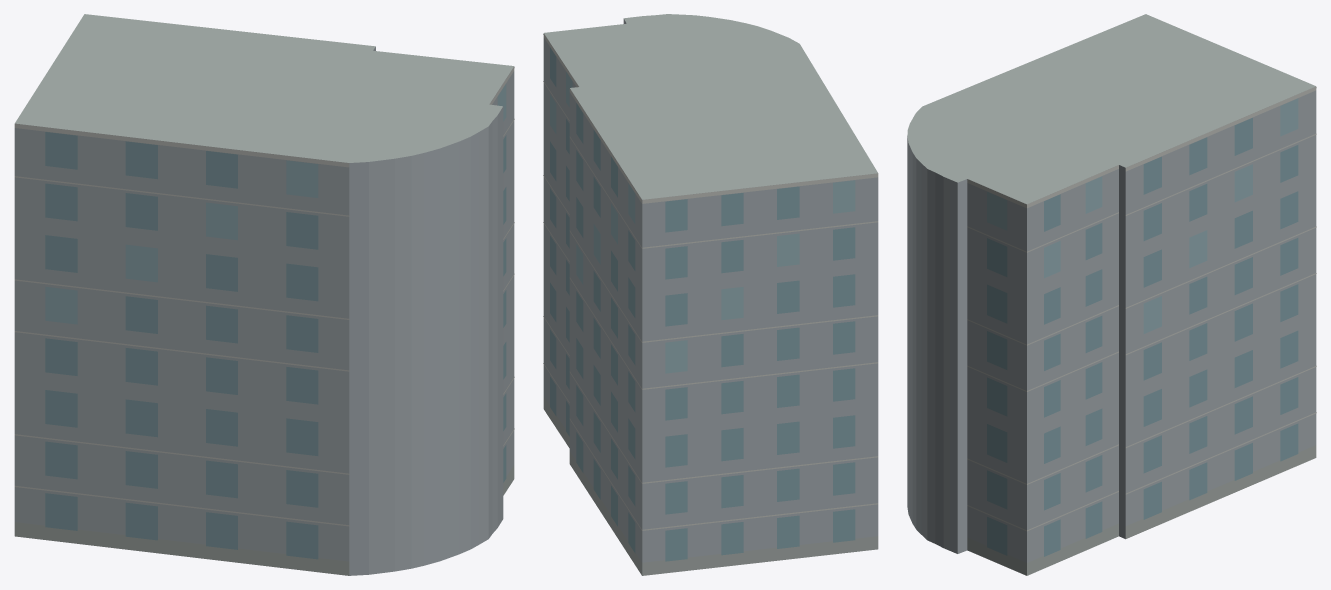
The model's file is survey-upis-33041325.glb.
3 views of the same model, side by side, from view 1: azimuth 30°, elevation 25°; view 2: azimuth 150°, elevation 25°; view 3: azimuth 270°, elevation 25° (orthographic). The views are drawn at different scales.
Visible parts, largest first — view 1: survey-upis-33041325.tmp; view 2: survey-upis-33041325.tmp; view 3: survey-upis-33041325.tmp.
Boxes of the visible parts, bbox=[...] form: survey-upis-33041325.tmp: bbox=[14, 14, 514, 575]; survey-upis-33041325.tmp: bbox=[543, 14, 878, 575]; survey-upis-33041325.tmp: bbox=[907, 14, 1316, 575].
Size of the model in its own units: 24.86 by 22.6 by 22.55.
